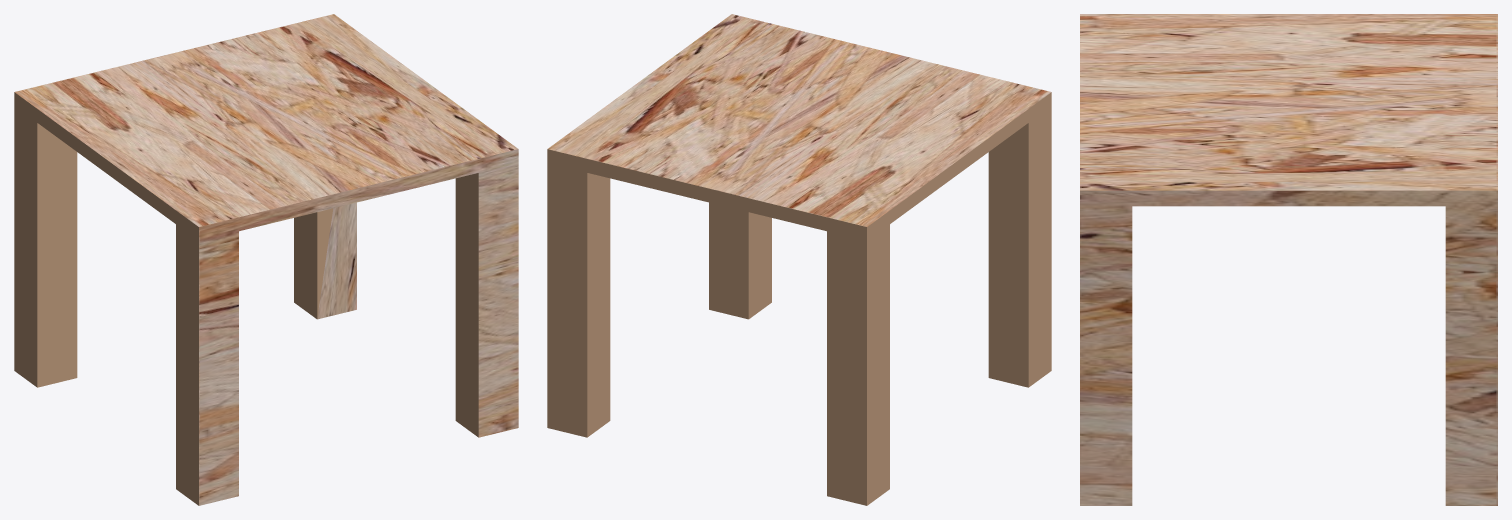
3 renders of one model, left to right at view 1: azimuth 30°, elevation 25°; view 2: azimuth 150°, elevation 25°; view 3: azimuth 270°, elevation 25°, orthographic. The views are drawn at different scales.
Visible parts, largest first — view 1: base_link; view 2: base_link; view 3: base_link.
Part boxes in pixels (bbox=[...]): base_link: bbox=[14, 14, 518, 505]; base_link: bbox=[547, 14, 1051, 505]; base_link: bbox=[1080, 14, 1497, 505].
Bounding box in the file's own units: 1.2 × 1.2 × 1.
Materials: 1 (1 with a texture image).
